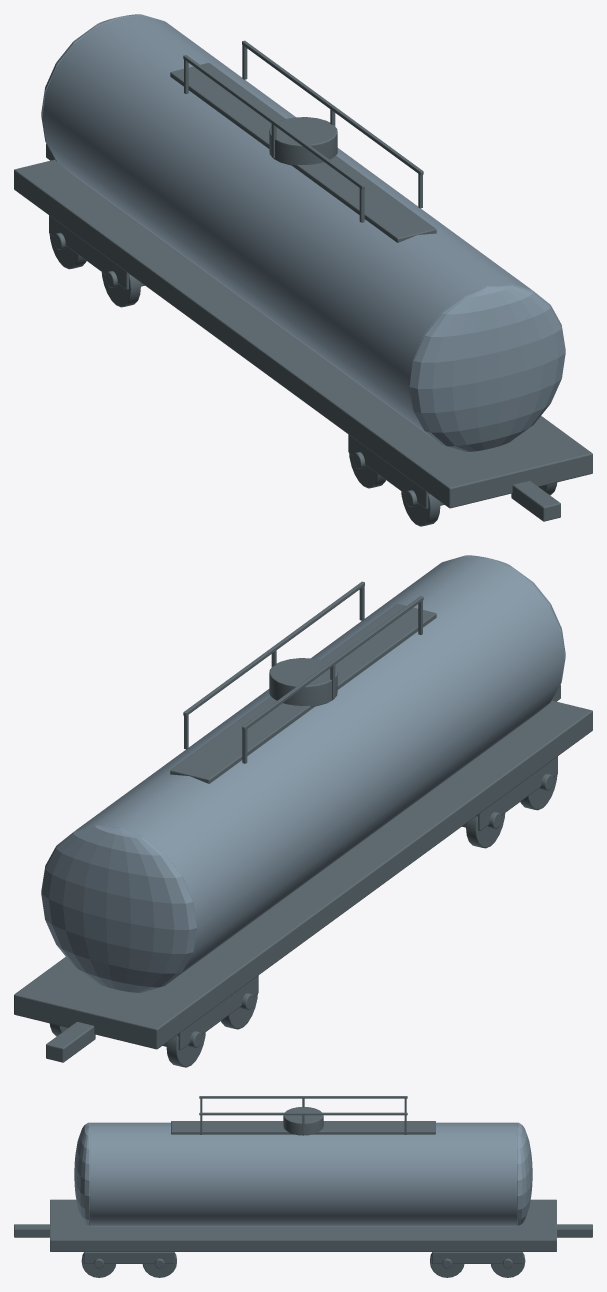
The model's file is rail_tanker.glb.
3 views of the same model, one above another, from view 1: azimuth 30°, elevation 25°; view 2: azimuth 150°, elevation 25°; view 3: azimuth 270°, elevation 25° (orthographic). The views are drawn at different scales.
Visible parts, largest first — view 1: rail_tanker; view 2: rail_tanker; view 3: rail_tanker.
Part boxes in pixels (x1,y1,x2,y2): rail_tanker: [14, 14, 592, 526]; rail_tanker: [14, 555, 592, 1067]; rail_tanker: [14, 1096, 592, 1277].
Bounding box in the file's own units: 2.76 × 4.53 × 15.3.
